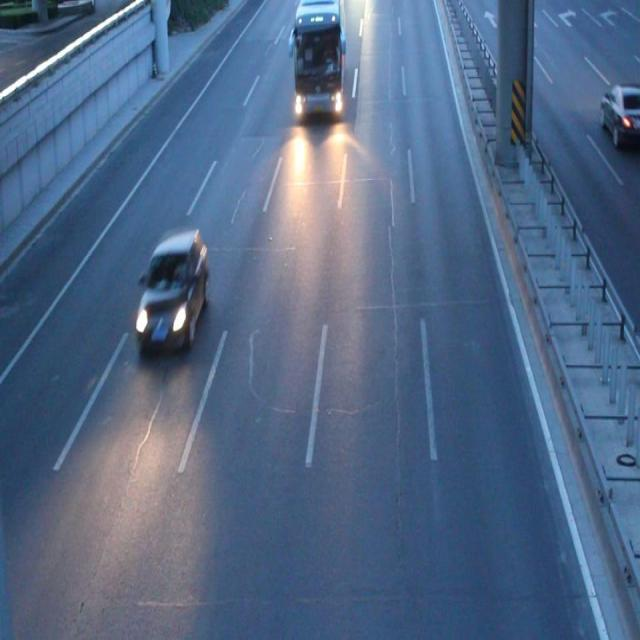car: (137, 226, 210, 346)
van: (286, 1, 346, 119)
